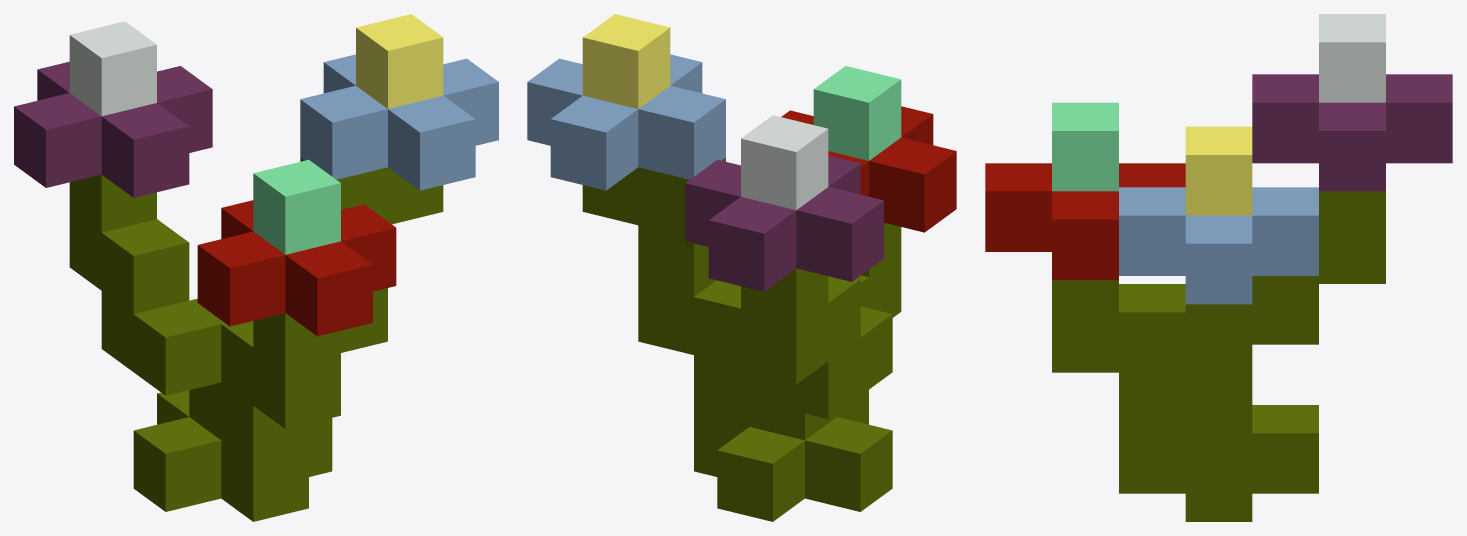
File: flower4.obj
The picture shows the model from 3 angles, left to right: view 1: azimuth 30°, elevation 25°; view 2: azimuth 150°, elevation 25°; view 3: azimuth 270°, elevation 25°; orthographic projection. The views are drawn at different scales.
Parts seen in each view (by area): view 1: flower4; view 2: flower4; view 3: flower4.
Part boxes in pixels (left/top/right/bottom): flower4: left=14, top=14, right=498, bottom=521; flower4: left=527, top=14, right=956, bottom=521; flower4: left=985, top=14, right=1452, bottom=521.
Bounding box in the file's own units: 7 × 7 × 7.
Materials: 1 (1 with a texture image).
